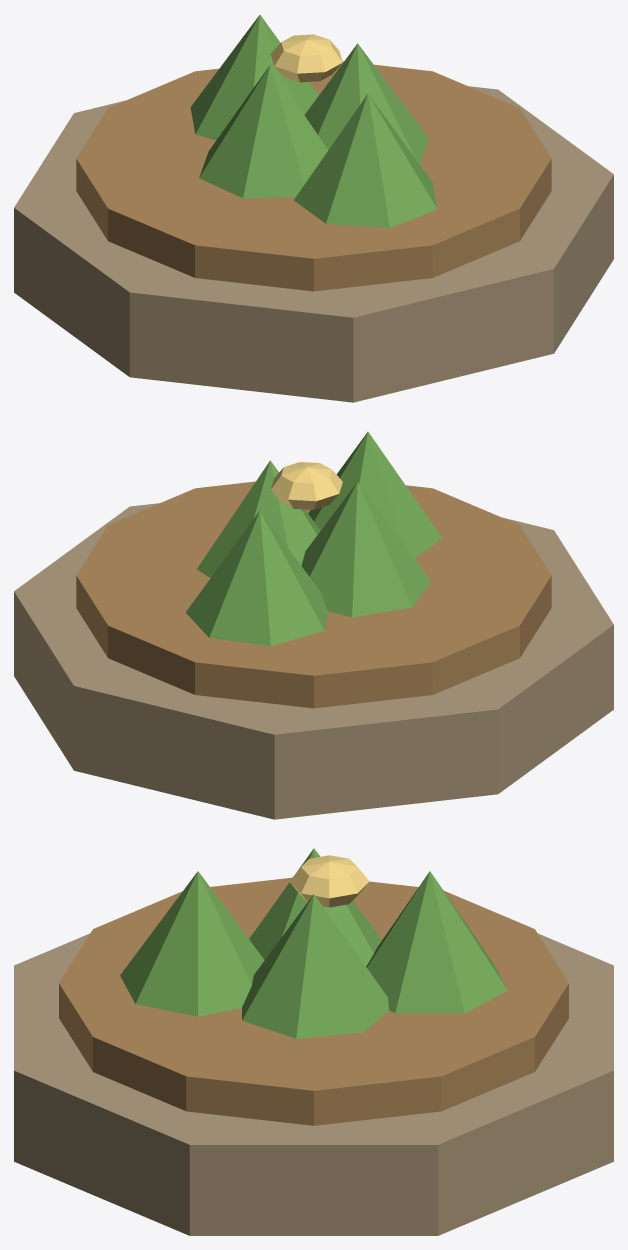
File: city-module-flowerbed-lod1.glb
The picture shows the model from 3 angles, top to bottom: view 1: azimuth 30°, elevation 25°; view 2: azimuth 150°, elevation 25°; view 3: azimuth 270°, elevation 25°; orthographic projection. The views are drawn at different scales.
Visible parts, largest first — view 1: module_flowerbed_stone_ring, module_flowerbed_soil, module_flowerbed_leaf_4, module_flowerbed_leaf_3, module_flowerbed_leaf_2, module_flowerbed_leaf_1, module_flowerbed_blossom_1; view 2: module_flowerbed_stone_ring, module_flowerbed_soil, module_flowerbed_leaf_2, module_flowerbed_leaf_3, module_flowerbed_leaf_4, module_flowerbed_leaf_1, module_flowerbed_blossom_1; view 3: module_flowerbed_stone_ring, module_flowerbed_soil, module_flowerbed_leaf_1, module_flowerbed_leaf_4, module_flowerbed_leaf_2, module_flowerbed_leaf_3, module_flowerbed_blossom_1.
Part boxes in pixels (x1,y1,x2,y2): module_flowerbed_stone_ring: (14,86,613,402); module_flowerbed_soil: (76,61,551,291); module_flowerbed_leaf_4: (294,94,437,227); module_flowerbed_leaf_3: (199,64,328,198); module_flowerbed_leaf_2: (190,15,318,140); module_flowerbed_leaf_1: (304,43,428,163); module_flowerbed_blossom_1: (270,34,342,82); module_flowerbed_stone_ring: (14,503,613,819); module_flowerbed_soil: (76,481,551,708); module_flowerbed_leaf_2: (186,511,327,645); module_flowerbed_leaf_3: (301,481,431,617); module_flowerbed_leaf_4: (308,432,441,558); module_flowerbed_leaf_1: (196,460,320,577); module_flowerbed_blossom_1: (270,462,342,509); module_flowerbed_stone_ring: (14,933,613,1235); module_flowerbed_soil: (59,877,568,1125); module_flowerbed_leaf_1: (242,894,388,1038); module_flowerbed_leaf_4: (120,871,264,1016); module_flowerbed_leaf_2: (366,871,507,1013); module_flowerbed_leaf_3: (249,848,381,966); module_flowerbed_blossom_1: (289,855,369,907).
Bounding box in the file's own units: 0.388 × 0.1768 × 0.388.
